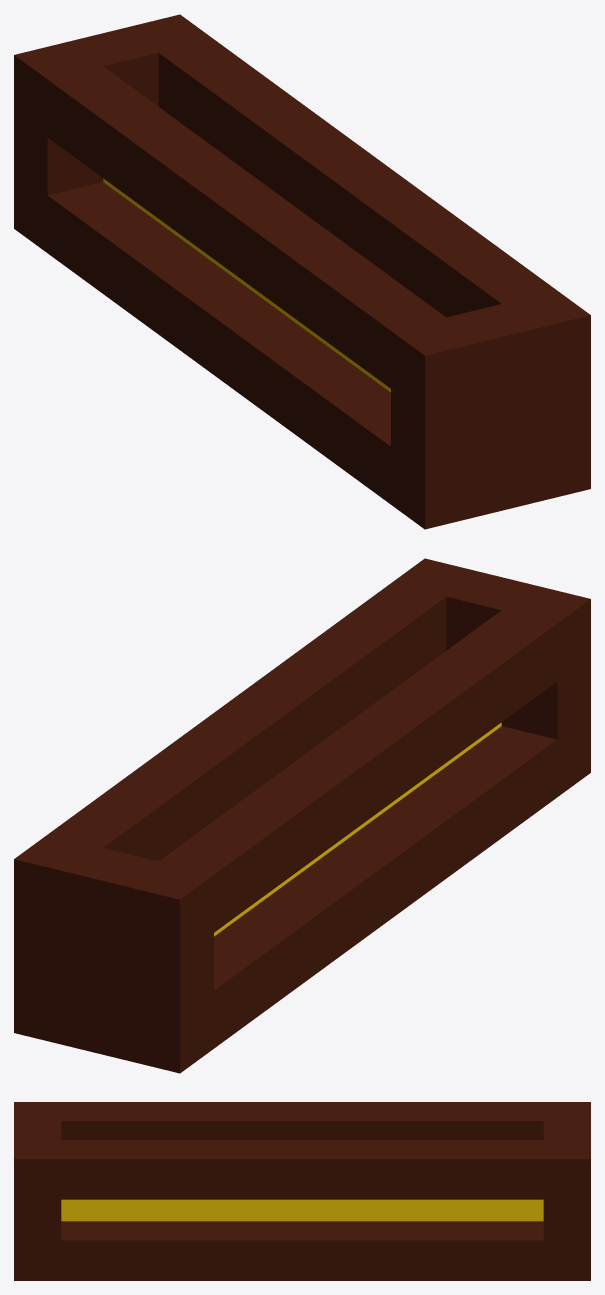
Rendered from Connection.fbx.
The picture shows the model from 3 angles, top to bottom: view 1: azimuth 30°, elevation 25°; view 2: azimuth 150°, elevation 25°; view 3: azimuth 270°, elevation 25°; orthographic projection. The views are drawn at different scales.
Visible parts, largest first — view 1: Cube, Cube.001; view 2: Cube, Cube.001; view 3: Cube, Cube.001.
Boxes of the visible parts, bbox=[...] form: Cube: bbox=[14, 14, 590, 529]; Cube.001: bbox=[103, 178, 390, 392]; Cube: bbox=[14, 558, 590, 1073]; Cube.001: bbox=[214, 722, 501, 936]; Cube: bbox=[14, 1102, 590, 1280]; Cube.001: bbox=[61, 1199, 543, 1221].
Size of the model in its own units: 200 by 200 by 857.
